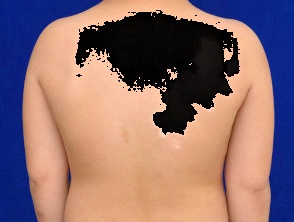vitiligo: (47, 0, 270, 170)
